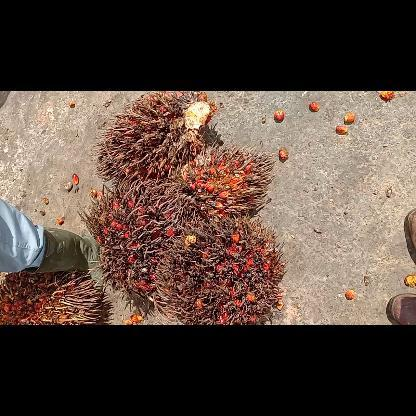Terlalu masak: (73, 175, 201, 307), (153, 216, 287, 324), (90, 91, 222, 189), (154, 137, 280, 231)
